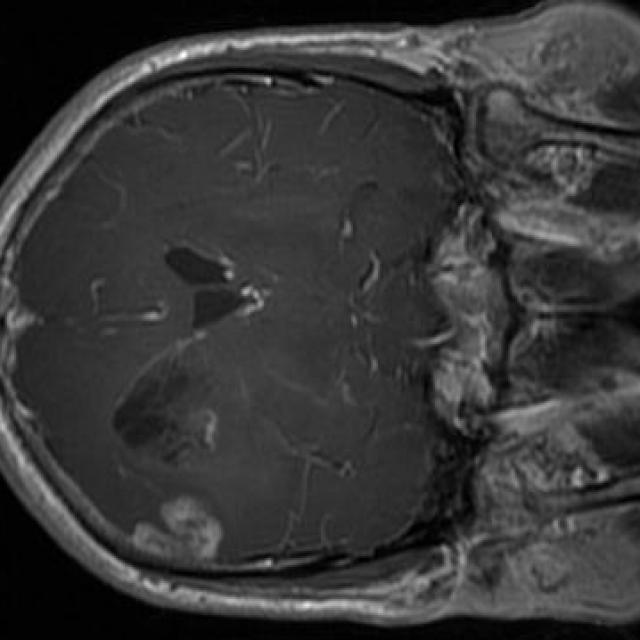glioma: (112, 339, 223, 560)
